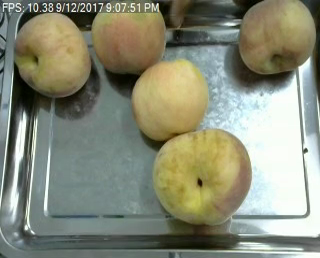Peach: (152, 128, 254, 225), (14, 11, 91, 97), (130, 59, 209, 140), (238, 0, 317, 74), (91, 0, 167, 75)
